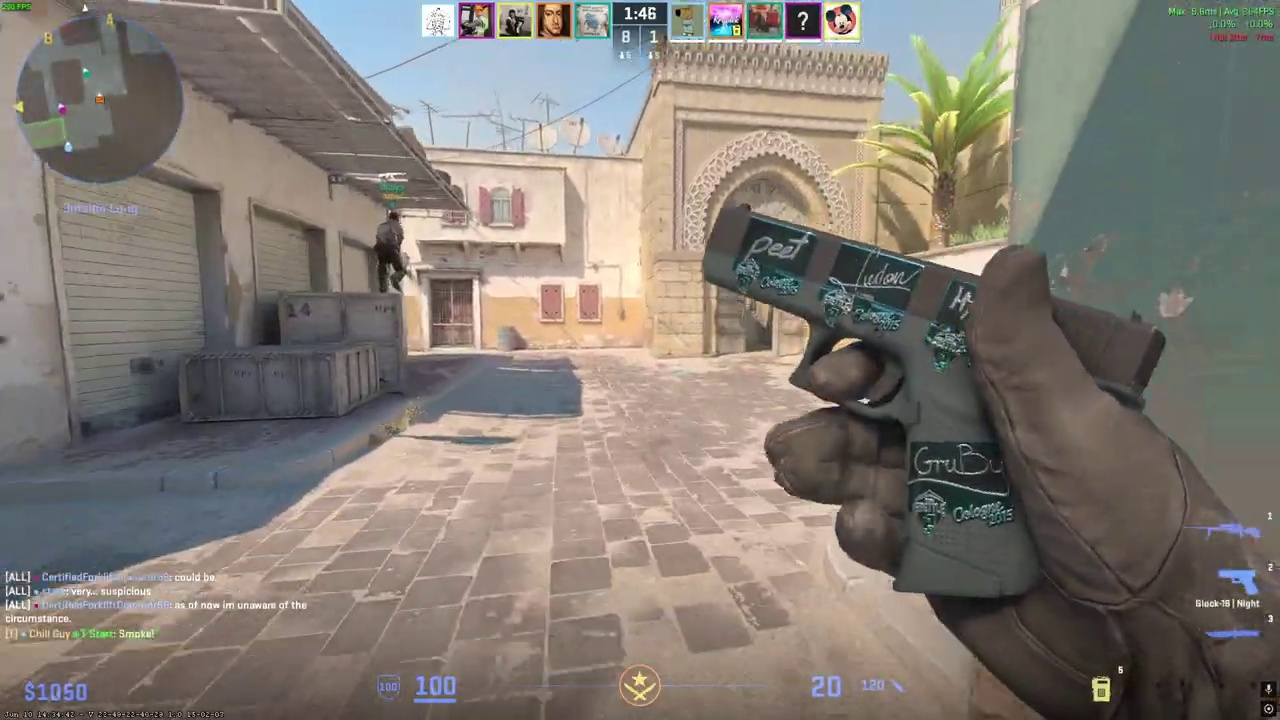Terrorist: (373, 212, 407, 294)
